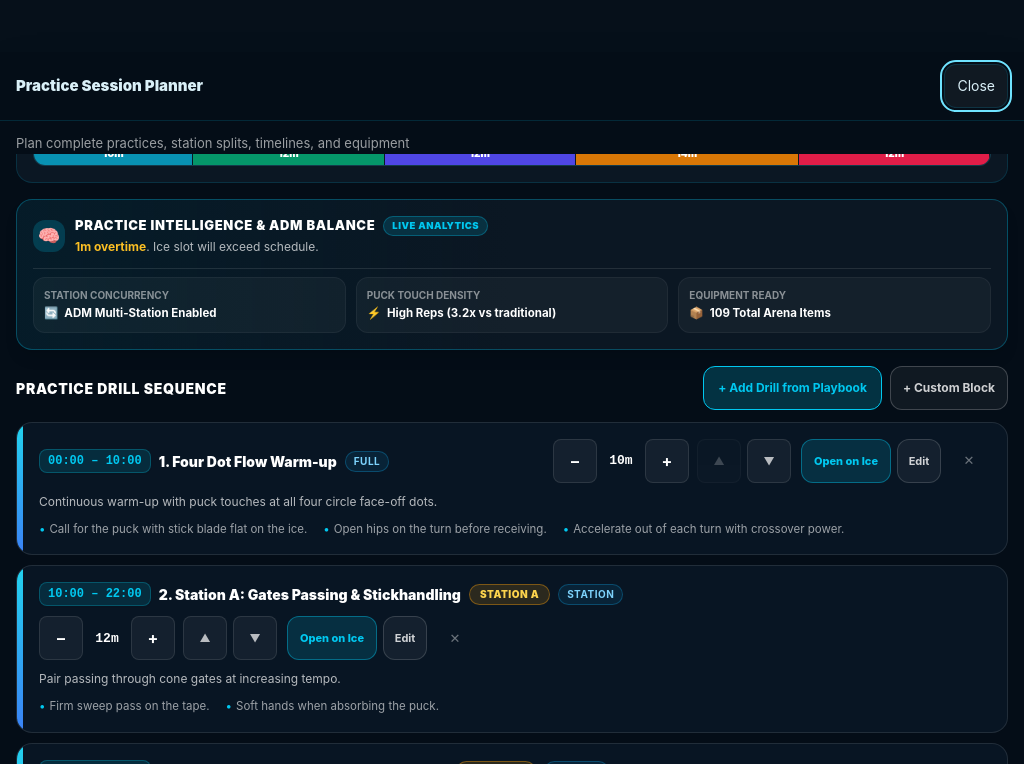
Test: PracticePage › supports toggling inline editing for a block
(page scrolled)
Click the button "Edit " in the row of "full": (919, 461) [897, 439, 941, 483]
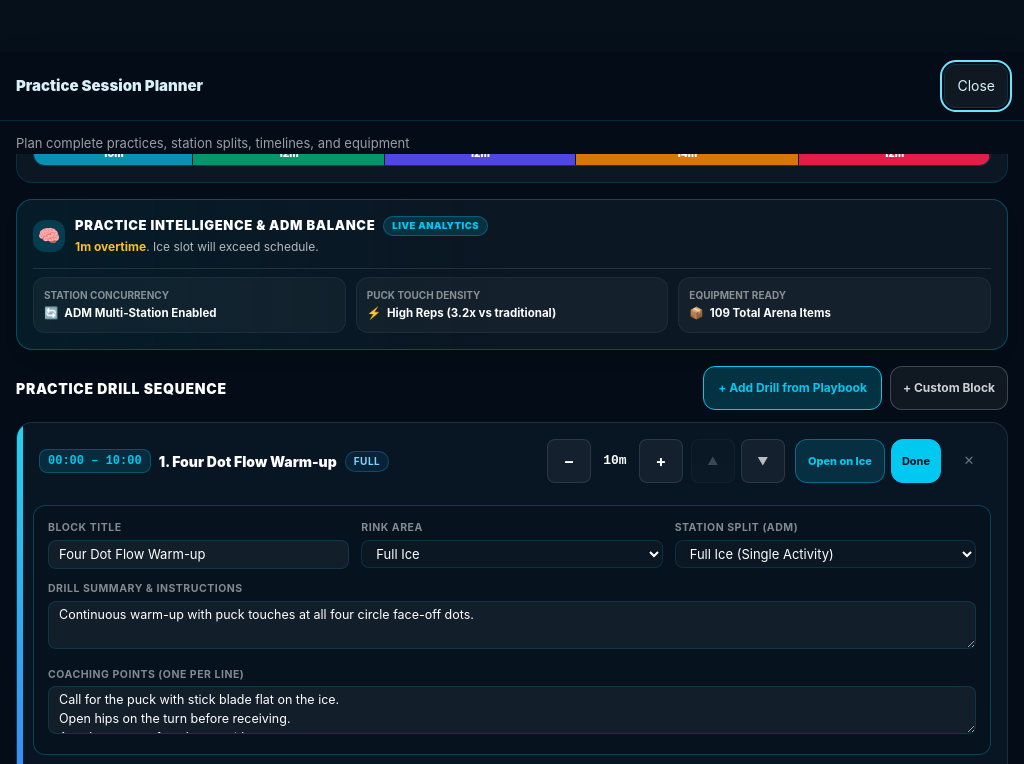
Check: the text "Block Title" is shown, box [48, 521, 122, 534]
Check: the text "Station Split (ADM)" is shown, box [675, 521, 798, 534]
